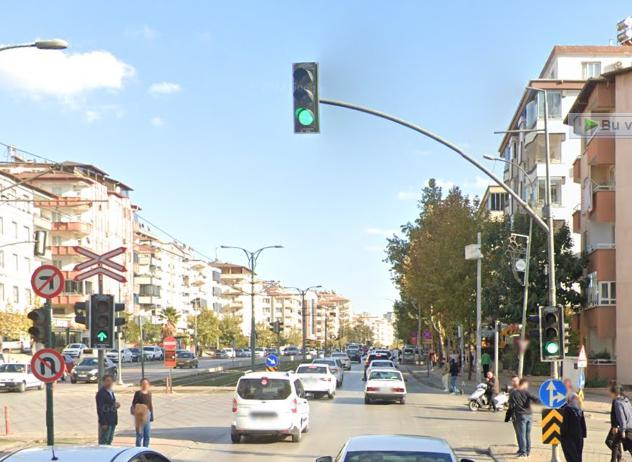greenlight: (294, 62, 319, 133), (90, 298, 116, 347), (540, 307, 562, 359)
leftturnsareforbidden: (33, 267, 61, 298)
